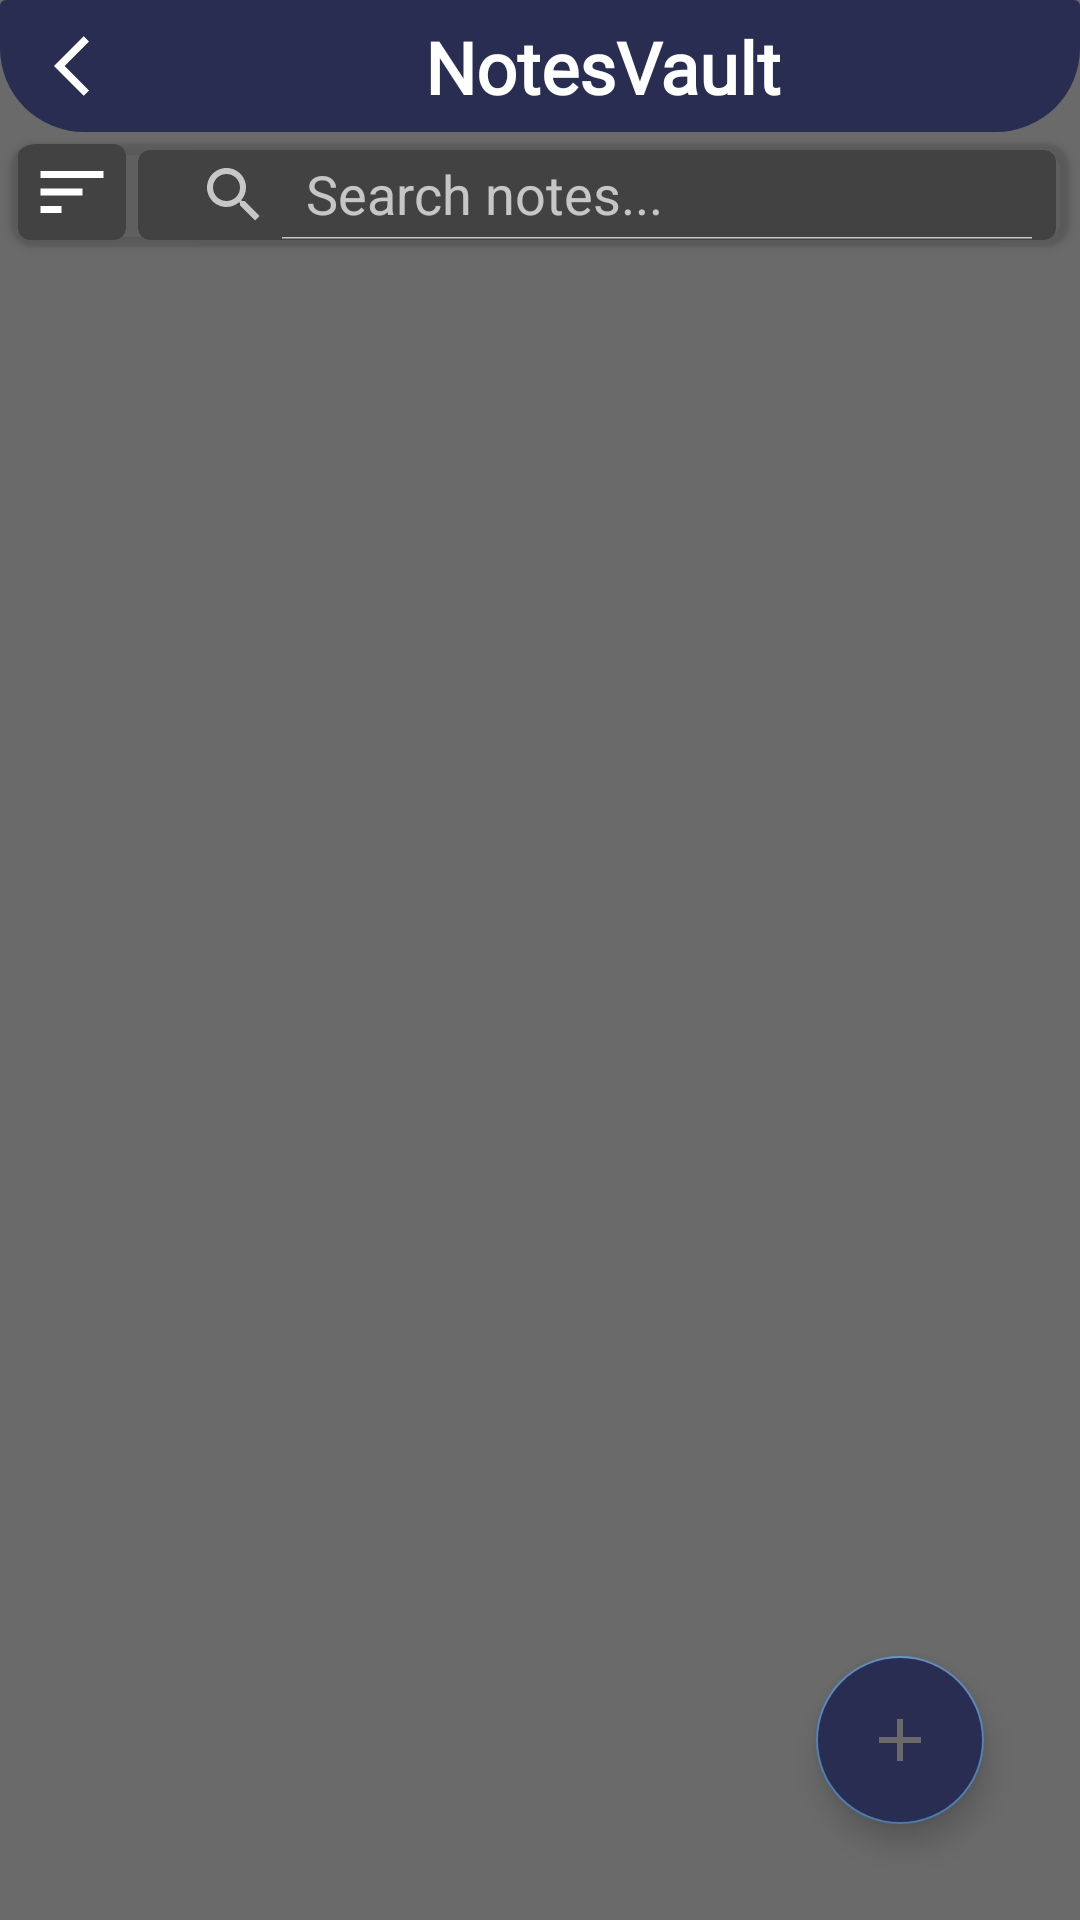

Screen size 1080*1920. Icon name, then its center in pixels as (x,y):
add: (900,1740)
arrow back: (71,66)
sort: (72,192)
